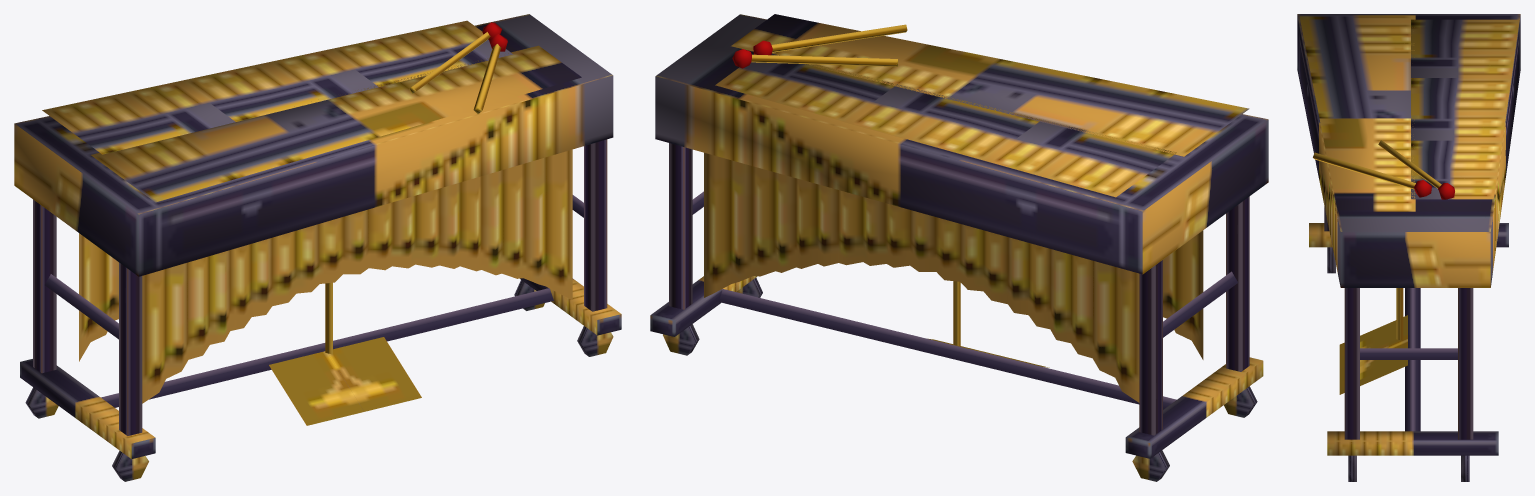
The model's file is int_oth_vibraphone.dae.
3 views of the same model, side by side, from view 1: azimuth 30°, elevation 25°; view 2: azimuth 150°, elevation 25°; view 3: azimuth 270°, elevation 25° (orthographic). The views are drawn at different scales.
Visible parts, largest first — view 1: int_oth_vibraphone; view 2: int_oth_vibraphone; view 3: int_oth_vibraphone.
Boxes of the visible parts, box(x1,y1,x2,y2) form: int_oth_vibraphone: box(14, 14, 621, 481); int_oth_vibraphone: box(650, 14, 1268, 481); int_oth_vibraphone: box(1297, 14, 1520, 481).
Size of the model in its own units: 54.7 by 31.31 by 23.2.
Materials: 1 (1 with a texture image).
